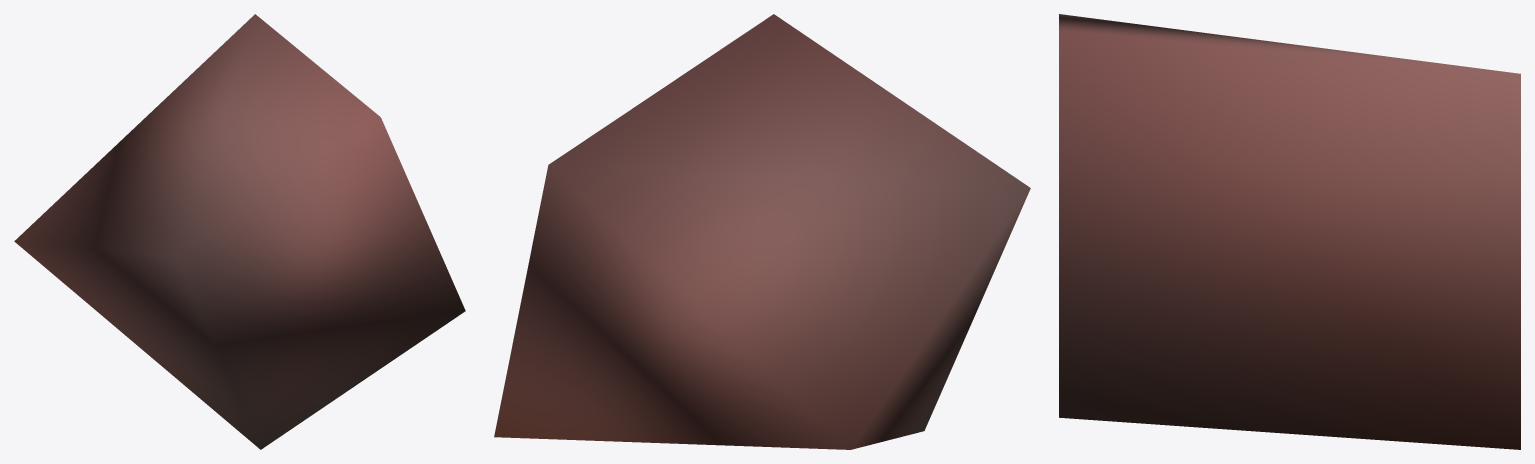
The model's file is solar_actuator_lod7.glb.
3 renders of one model, left to right at view 1: azimuth 30°, elevation 25°; view 2: azimuth 150°, elevation 25°; view 3: azimuth 270°, elevation 25°, orthographic. The views are drawn at different scales.
Visible parts, largest first — view 1: solar_actuator; view 2: solar_actuator; view 3: solar_actuator.
Boxes of the visible parts, <box> form: solar_actuator: <box>14,14,465,449</box>; solar_actuator: <box>494,14,1030,449</box>; solar_actuator: <box>1059,14,1520,449</box>.
Size of the model in its own units: 0.3809 by 0.3696 by 0.3372.
